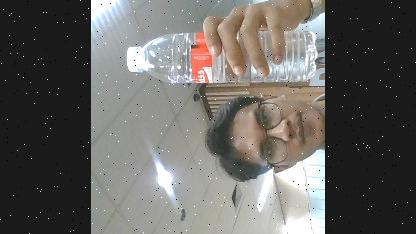Plastic Bottle: (124, 29, 318, 84)
